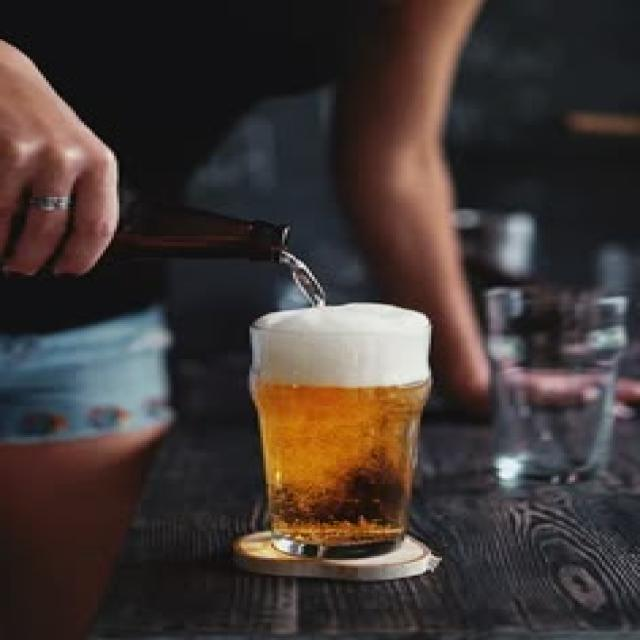Cup: (248, 300, 440, 552)
